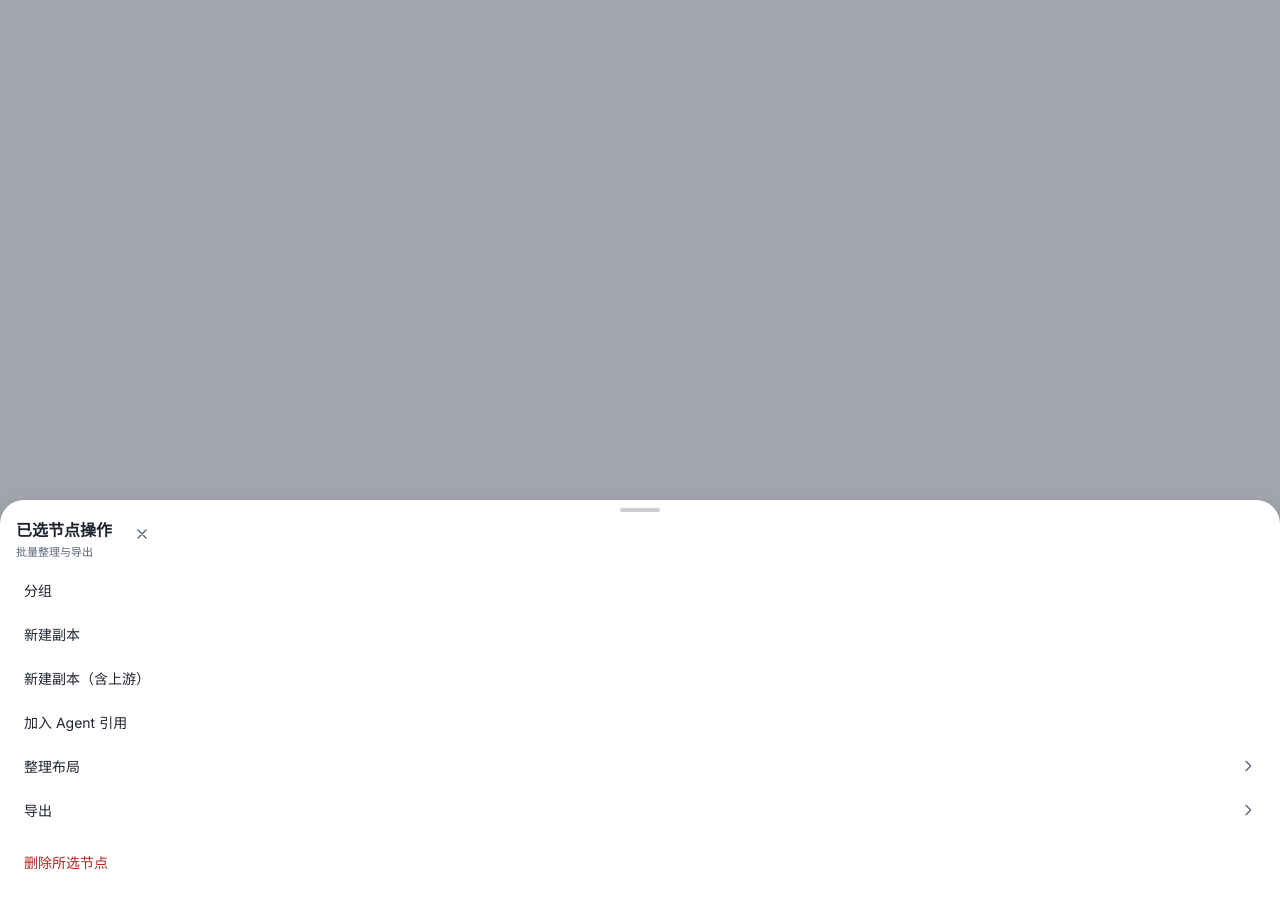
Test case: MobileMultiSelectMoreSheet：整理布局分组卡片（IA 重排） › 整理布局视图分「重排 / 规整」两张卡片，六向进紧凑网格（不再 10 行竖排）
Click the button with test id "msms-layout" at (52, 766), box [12,744,1268,788]
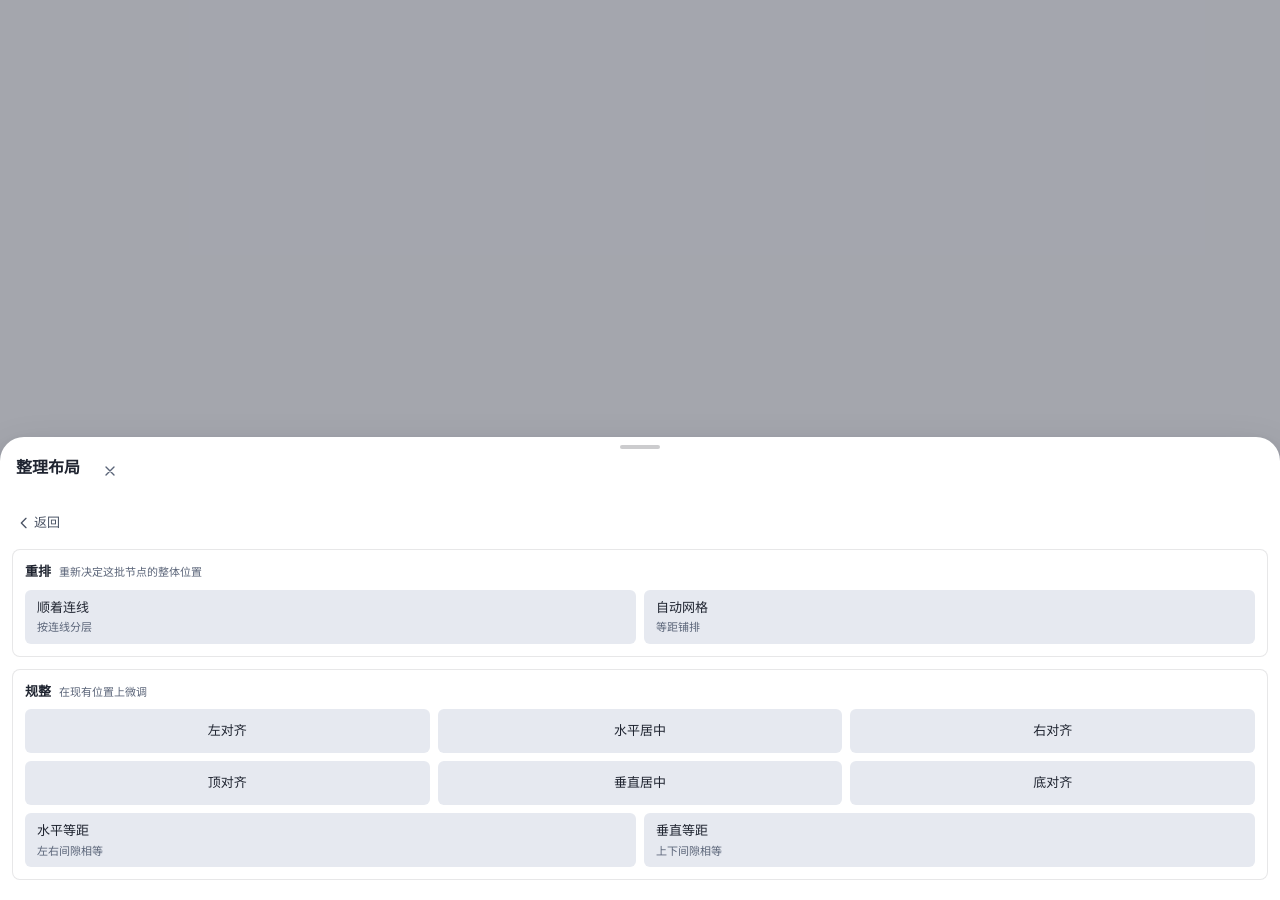
Now the element with test id "msms-card-rearrange" is shown, box [12,549,1268,656]
Now the element with test id "msms-card-tidy" is shown, box [12,668,1268,880]
Now the element with test id "msms-align-grid" is shown, box [25,709,1255,805]
